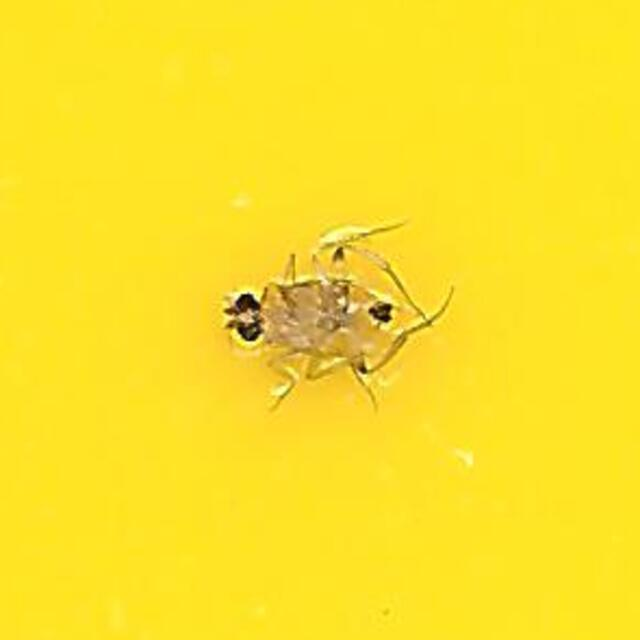Brachycera: (217, 235, 423, 405)
